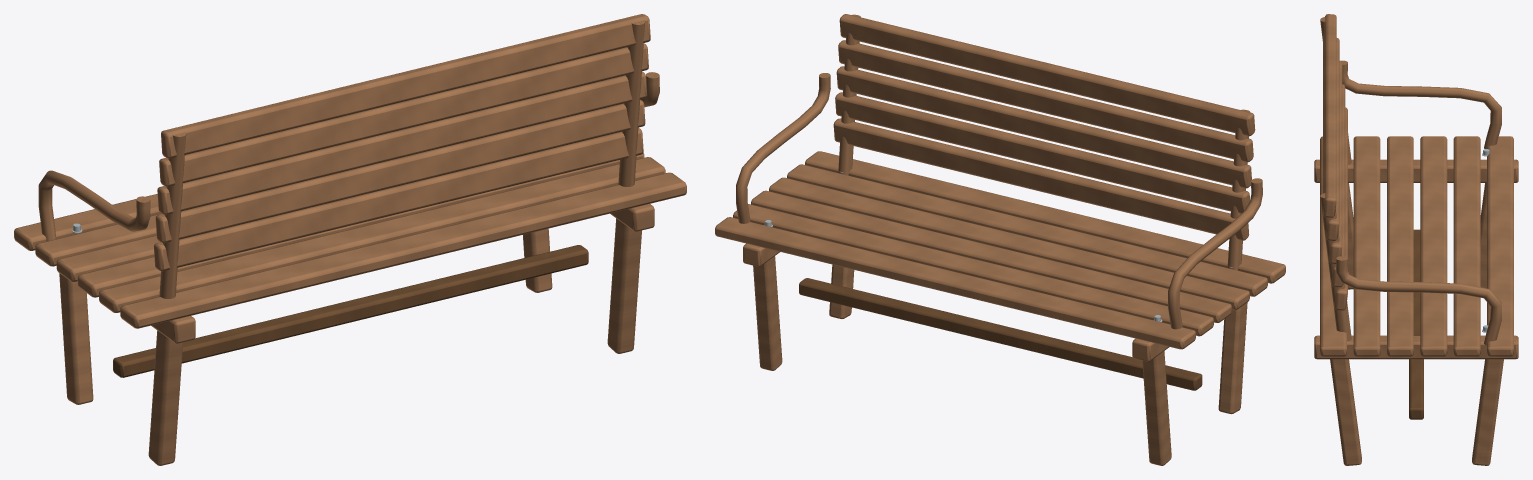
The model's file is GardenBench.gltf.
3 renders of one model, left to right at view 1: azimuth 30°, elevation 25°; view 2: azimuth 150°, elevation 25°; view 3: azimuth 270°, elevation 25°, orthographic. The views are drawn at different scales.
Visible parts, largest first — view 1: GardenBench__Body; view 2: GardenBench__Body; view 3: GardenBench__Body.
Boxes of the visible parts, x1,y1,x2,y2 form: GardenBench__Body: [14, 14, 686, 465]; GardenBench__Body: [715, 14, 1285, 465]; GardenBench__Body: [1314, 14, 1518, 465].
Bounding box in the file's own units: 1.51 × 0.896 × 0.616.
Materials: 1 (1 with a texture image).
